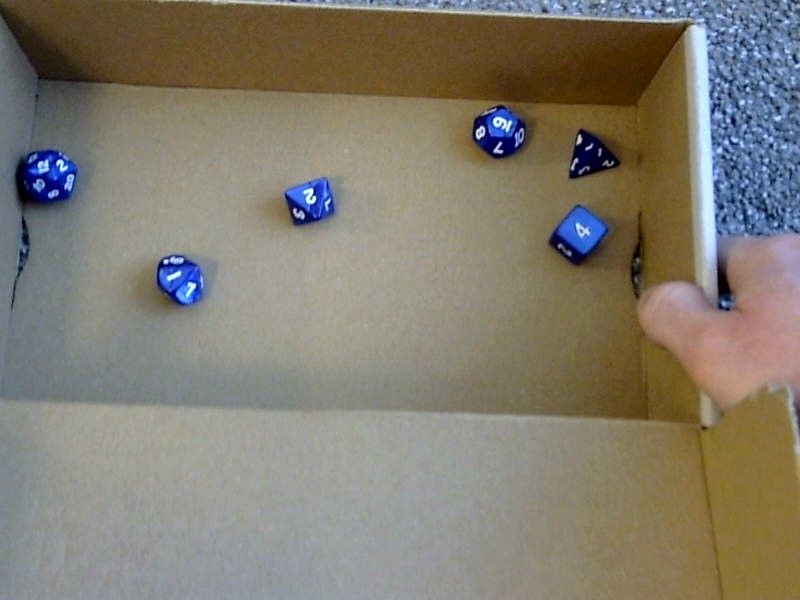d10 1: (152, 249, 206, 307)
d12 9: (468, 98, 526, 160)
d20 12: (12, 138, 78, 207)
d4 1: (565, 123, 621, 183)
d6 4: (548, 198, 608, 267)
d8 2: (279, 170, 335, 227)
